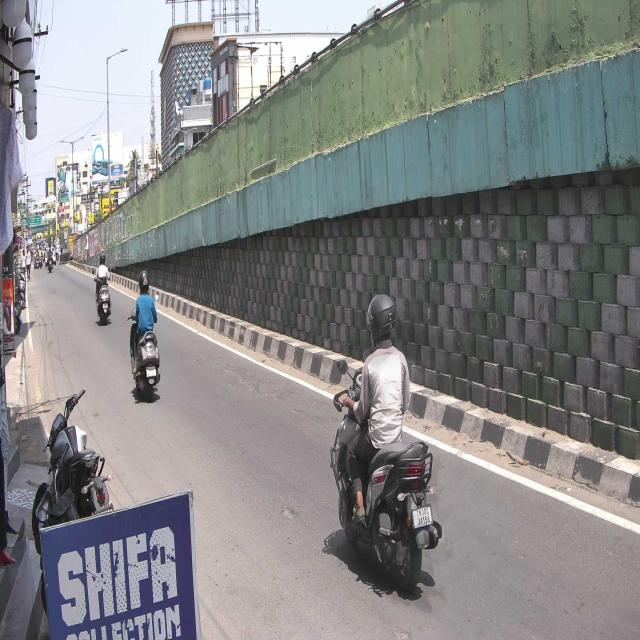single_rider: (331, 290, 443, 596), (127, 270, 161, 400)
